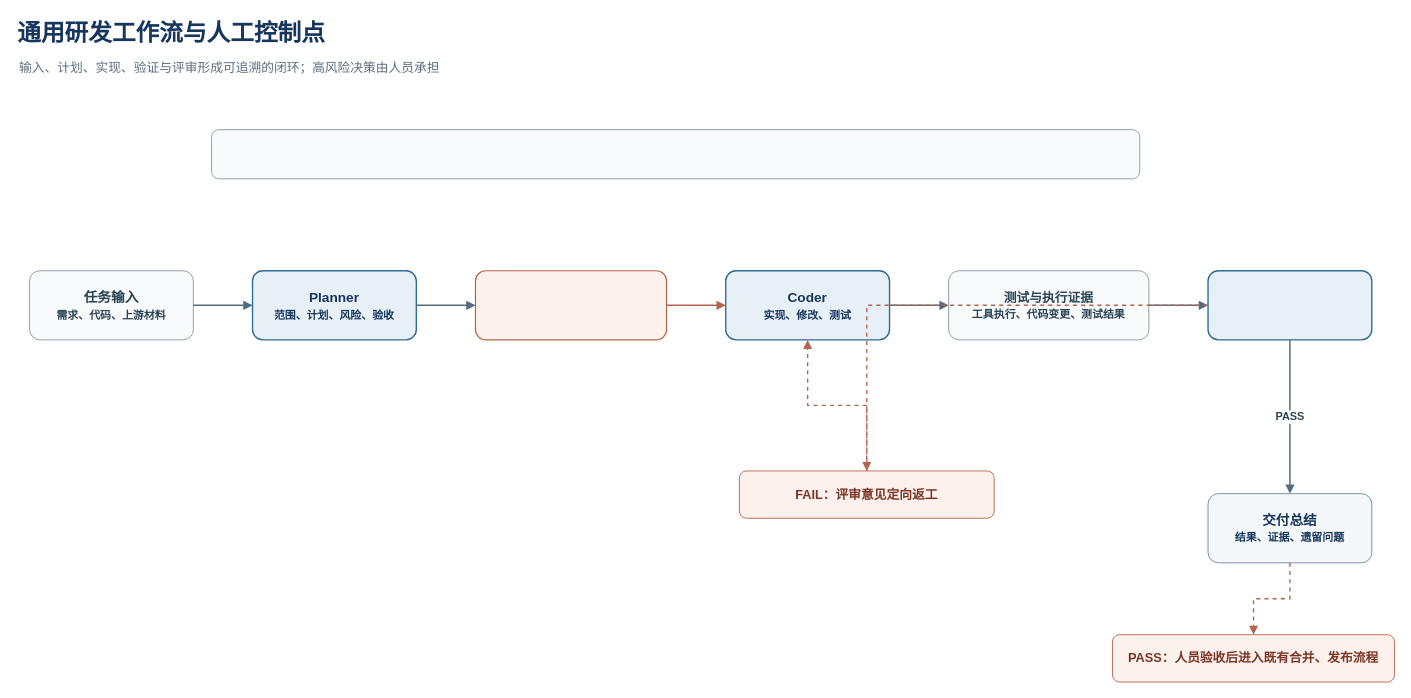
Some shapes in this 1411 by 698 pixel diagram are drawn without their labels. Each missing label, with the box of its shape:
Reviewer PASS / FAIL 与问题证据: (1207, 270, 1372, 340)
共同约束：独立角色会话 · 受控 Markdown 交接 · 运行状态与检查点 · 全过程留痕: (211, 129, 1140, 179)
计划评审 / 人工确认 需求边界与关键规则: (474, 270, 667, 340)
